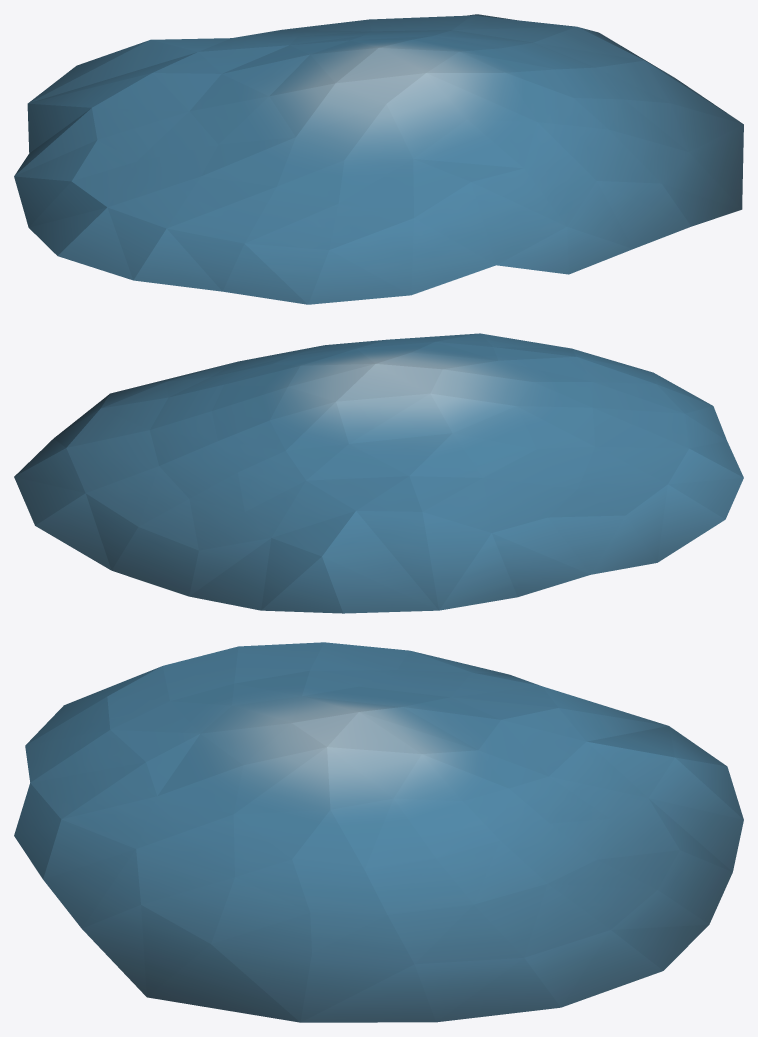
File: Top_04.fbx
3 views of the same model, one above another, from view 1: azimuth 30°, elevation 25°; view 2: azimuth 150°, elevation 25°; view 3: azimuth 270°, elevation 25° (orthographic). The views are drawn at different scales.
Parts seen in each view (by area): view 1: pSphere2; view 2: pSphere2; view 3: pSphere2.
Boxes of the visible parts, x1,y1,x2,y2 form: pSphere2: (14, 14, 743, 304); pSphere2: (14, 333, 743, 613); pSphere2: (14, 642, 743, 1022).
Size of the model in its own units: 1.97 by 0.36 by 1.76.
